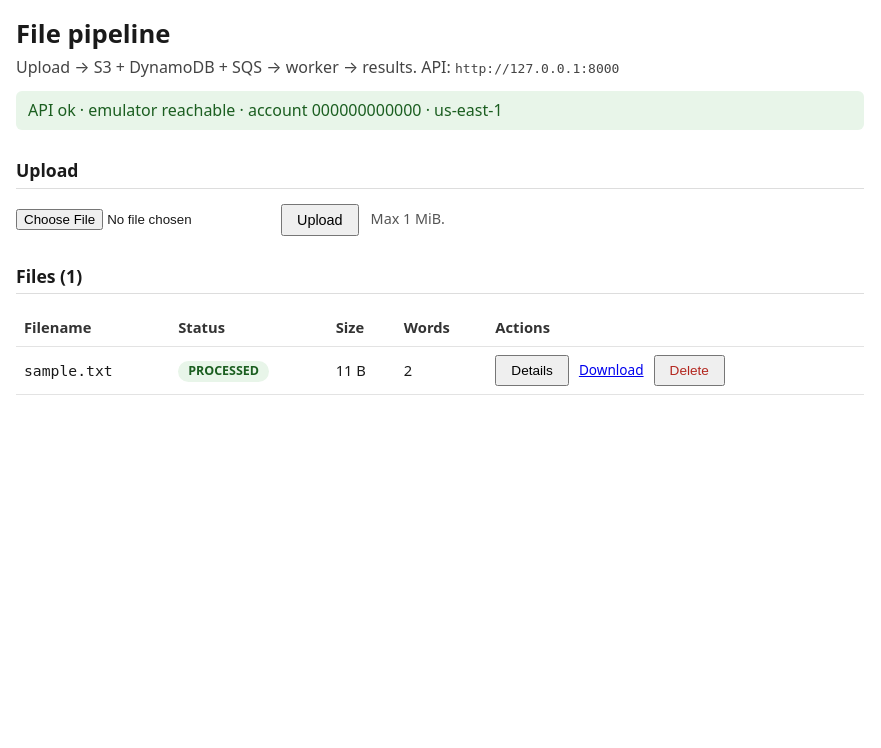
Test: upload selects the new file and shows its pending detail
This screenshot has width=881, height=748.
Earlier steps of the test are not shown.
Expected: the text "sample.txt" is shown, x1=16 y1=346 x2=170 y2=394
Click the button "Upload". click: point(320, 220)
box: x1=281 y1=204 x2=359 y2=236
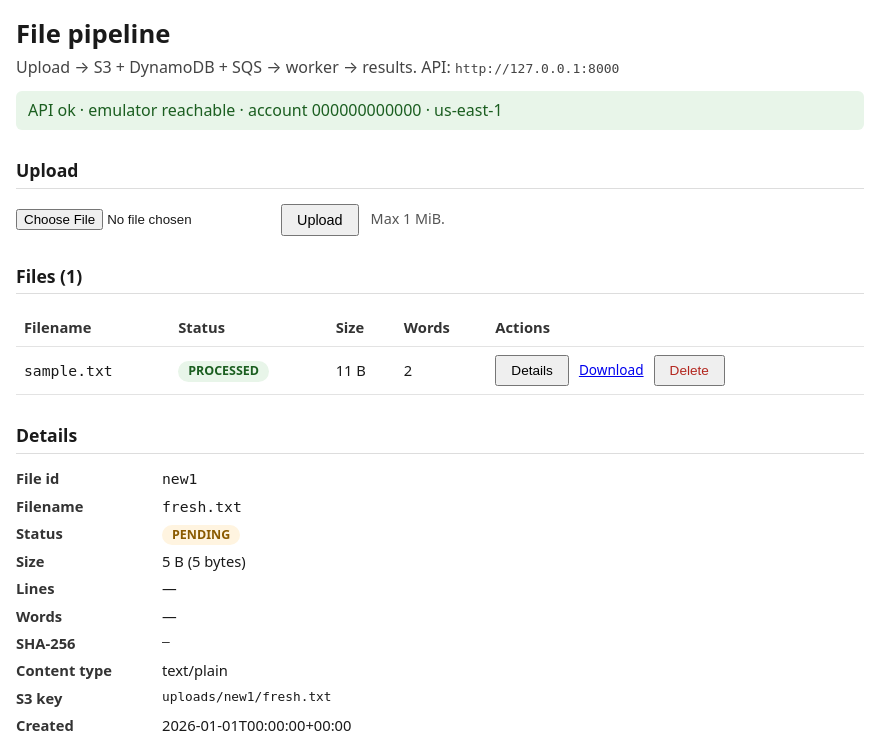
Expected: the heading "File pipeline" is shown, x1=16 y1=16 x2=170 y2=51
Now the text "fresh.txt" is shown, box x1=162 y1=498 x2=242 y2=514
